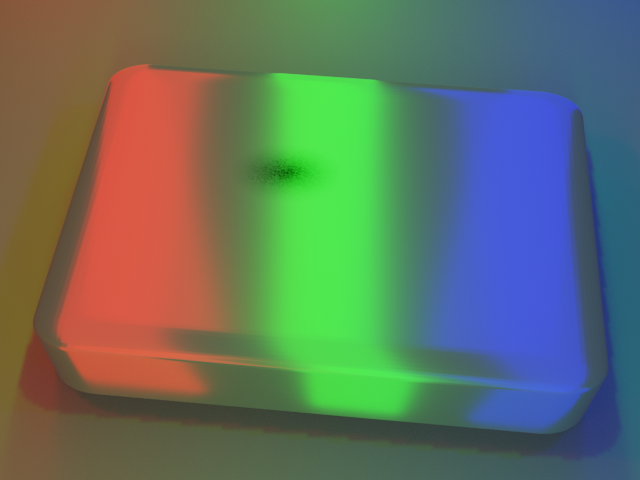stain: (193, 106, 394, 217)
